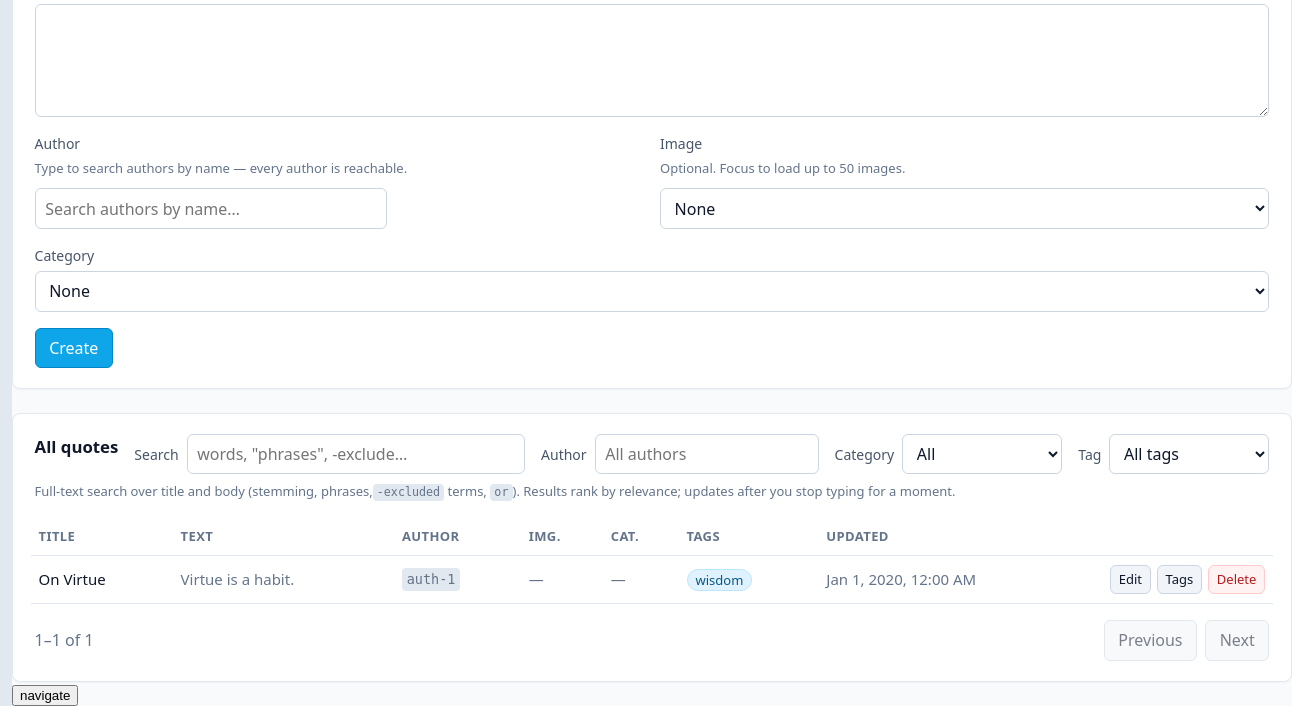
Test: QuotesPage › tag management › on add-404 (parent gone after open), hides chips and the add picker
The image size is (1292, 706).
(page scrolled)
Check: the link "On Virtue" is shown, box [39, 569, 106, 589]
Click the button with aria-label "manage tags for on virtue". click: (1179, 580)
box: [1157, 565, 1202, 594]
(page scrolled)
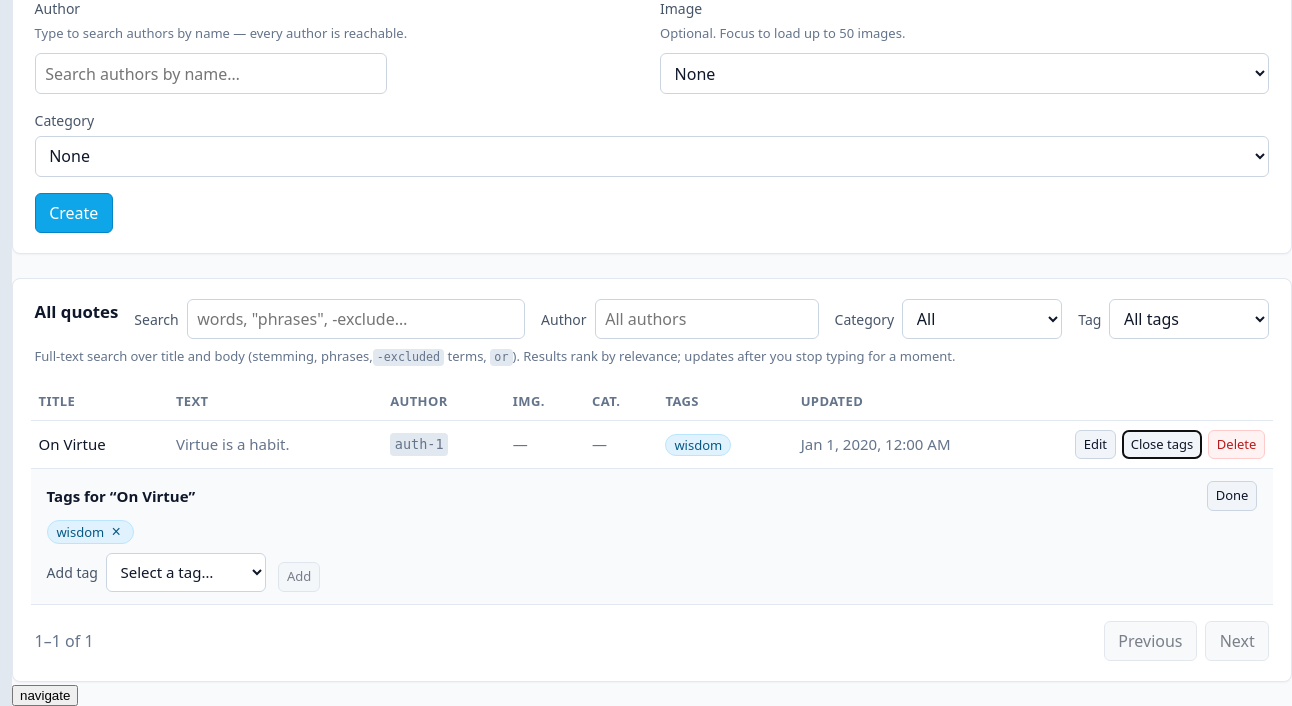
Check: the button named "remove tag wisdom from on virtue" is shown, box [108, 524, 124, 540]
Select "virtue" in the dropdown named "add tag to on virtue". click: (186, 572)
box: [106, 553, 266, 592]
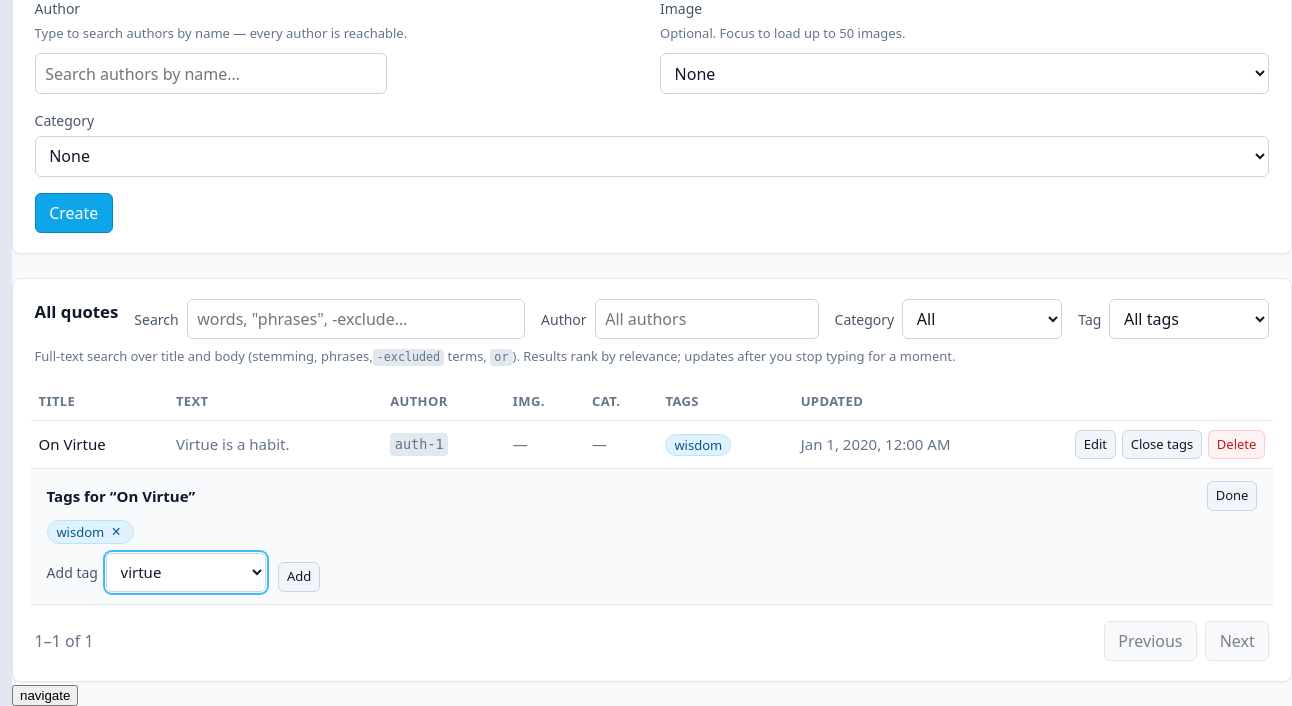
Click the button "Add". click: (299, 577)
box: [278, 562, 320, 592]
(page scrolled)
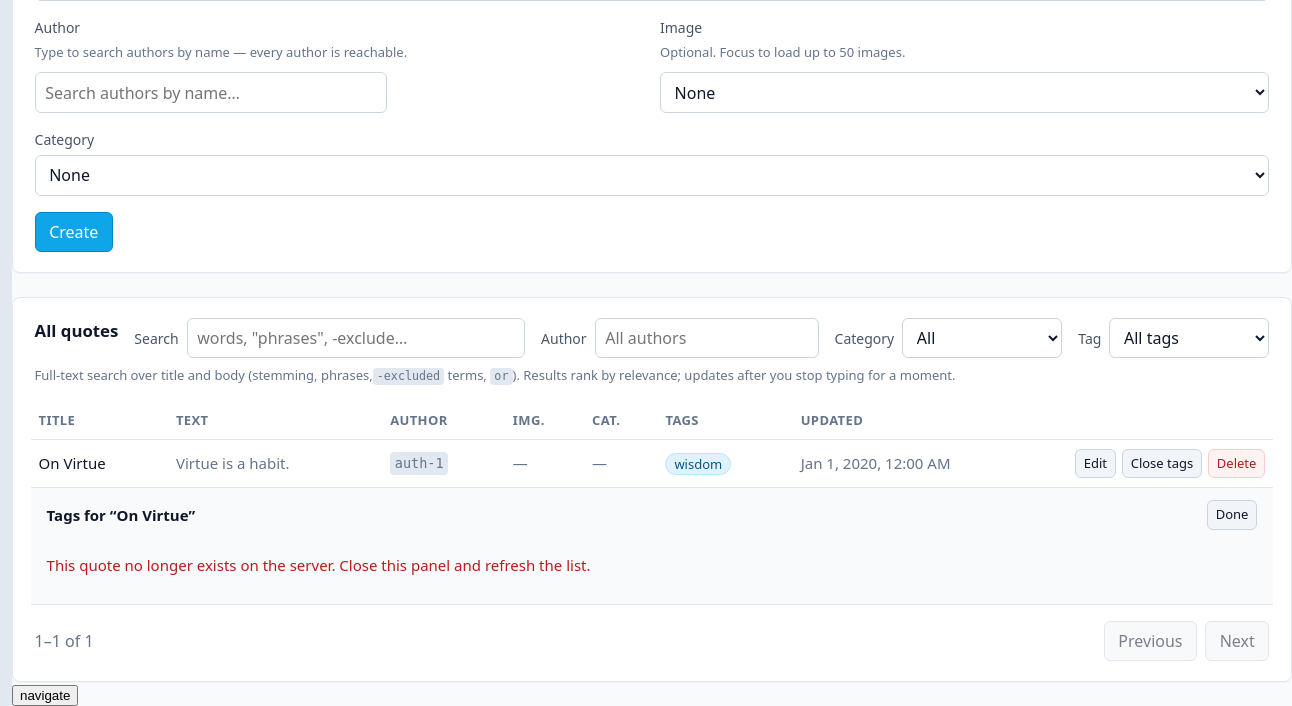
Check: the text "this quote no longer exists on the server. close this panel and refresh the list." is shown, box [47, 555, 590, 575]
